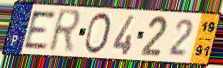2: (139, 14, 171, 58), (166, 18, 196, 58)
4: (110, 13, 136, 58)
E: (22, 9, 58, 50)
O: (82, 11, 113, 56)
R: (47, 8, 84, 55)
